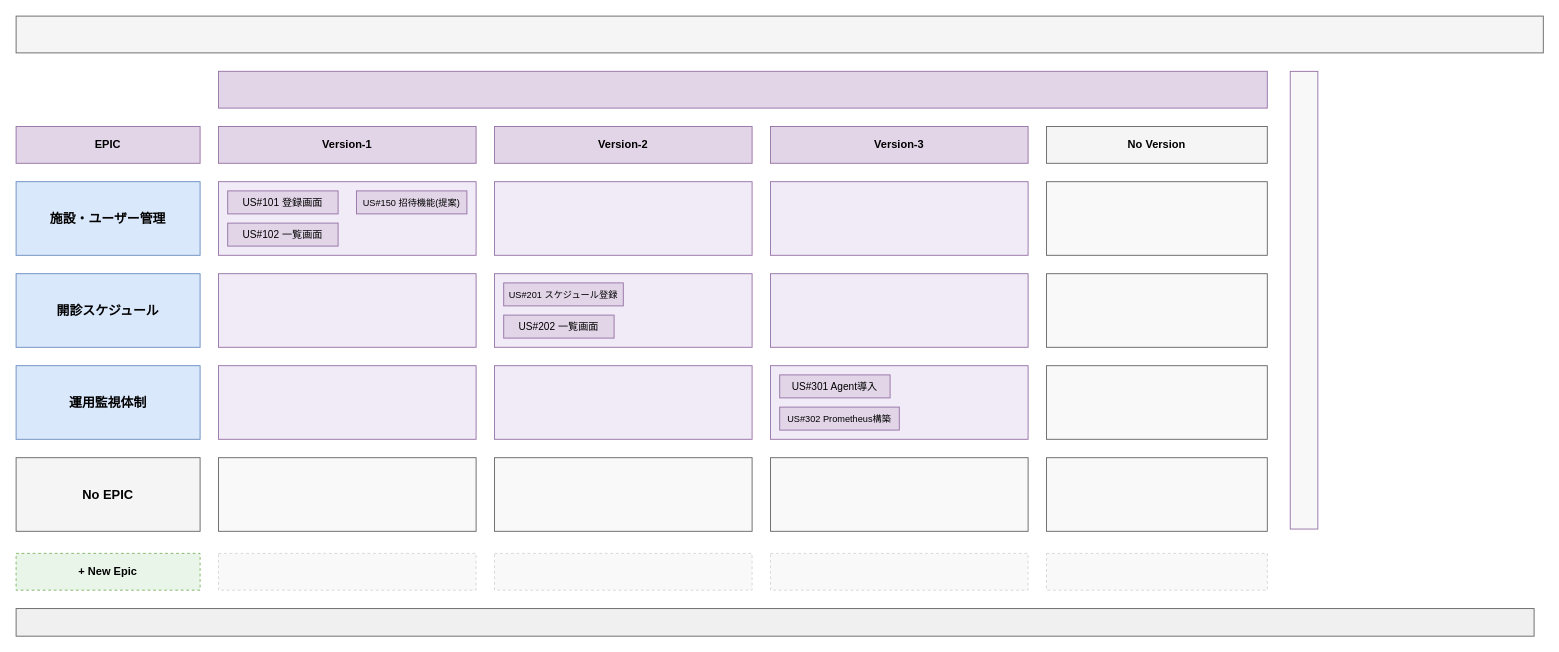
This 1559x652 diagram has some shape labels left out. Here are the shapes that lost their labels. From the top down, the centre of each, then its label:
the point at 779,34: Epic Kanban Board
the point at 742,89: Version
the point at 1303,299: + New Version
the point at 774,622: Grid-based Epic Kanban: Epic行は固定、User Story要素はグリッド内でドラッグ&ドロップ移動可能
